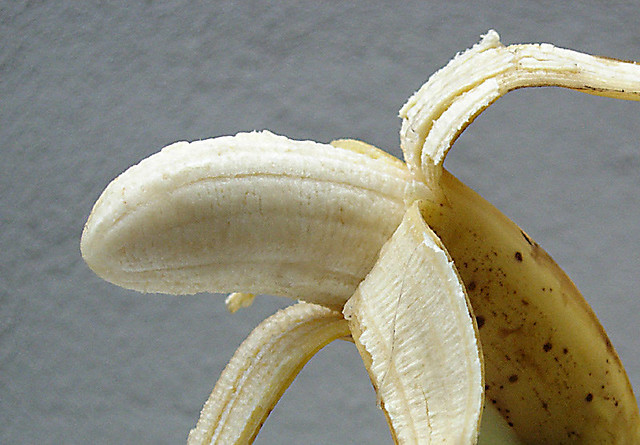banana: (71, 124, 632, 445)
